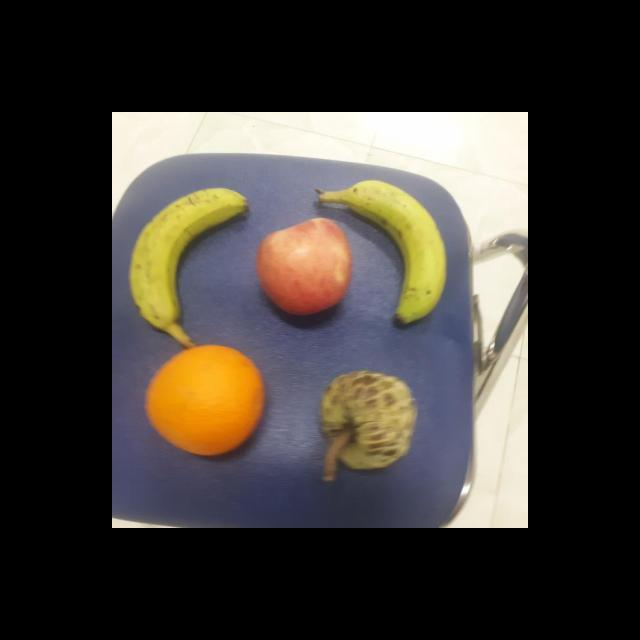Sakya fruit: (316, 366, 426, 486)
apple: (252, 217, 358, 321)
banana: (126, 186, 252, 348), (345, 173, 452, 328)
orange: (141, 342, 269, 465)
